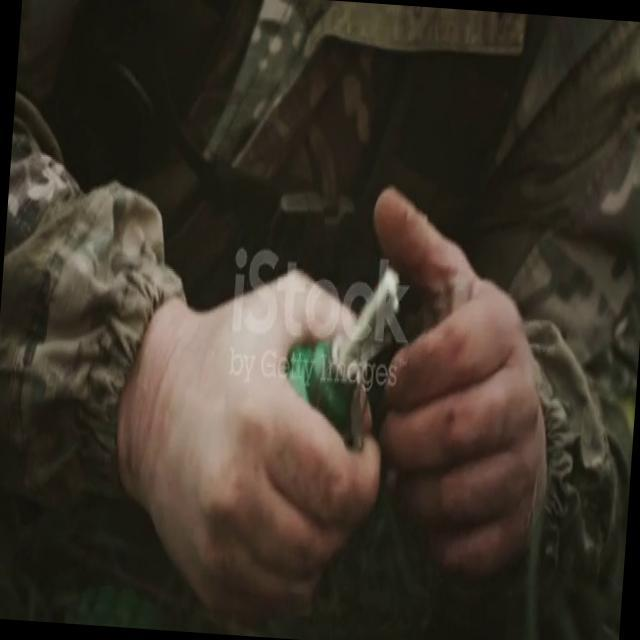grenade: (296, 256, 406, 444)
